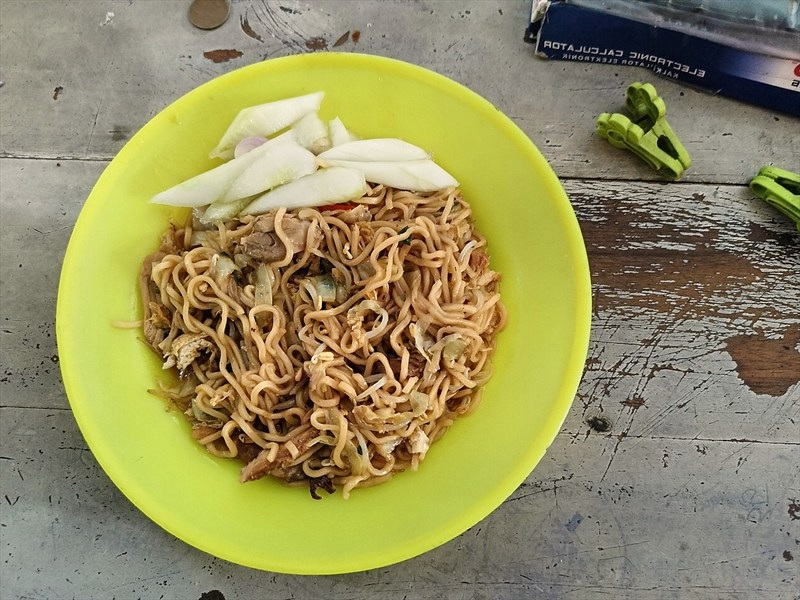Mie Goreng: (127, 104, 663, 506)
